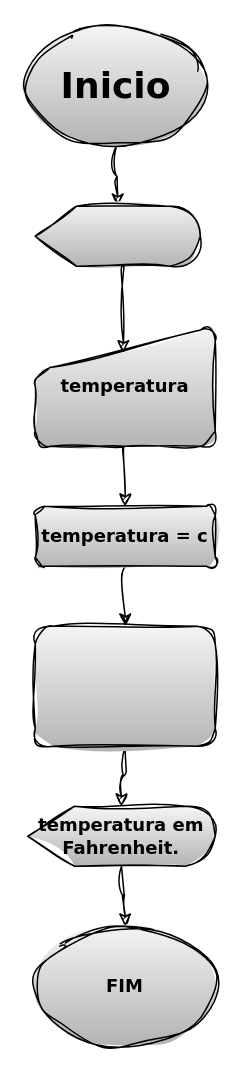
Some shapes in this 242 by 1073 pixel diagram are drawn without their labels. Each missing label, with the centre of its shape:
"digite a temperatura" goes at pixel 117 235.
"fórmula: F = C × 1,8 + 32" goes at pixel 124 685.
